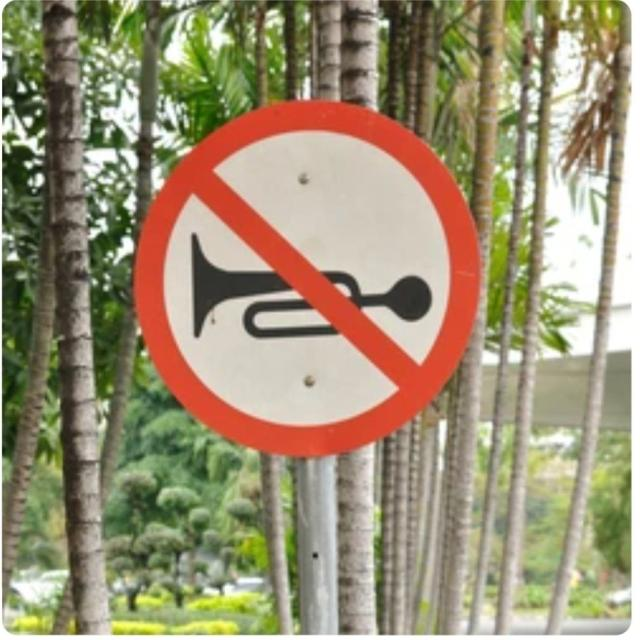No_Horn: (131, 104, 480, 454)
